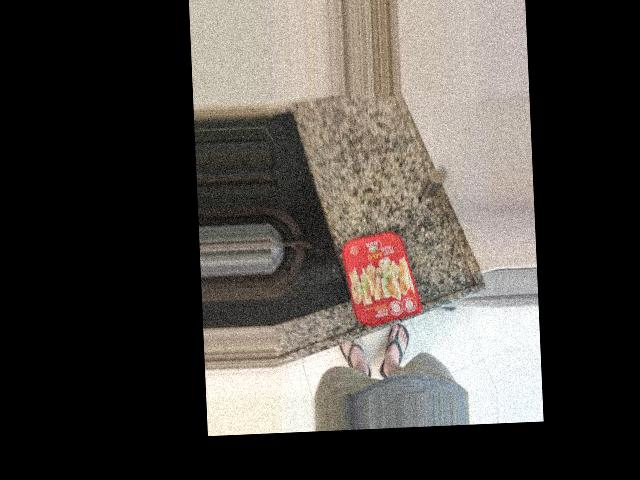cheese: (330, 141, 425, 254)
